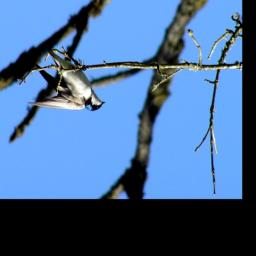Swallow: (27, 44, 106, 113)
